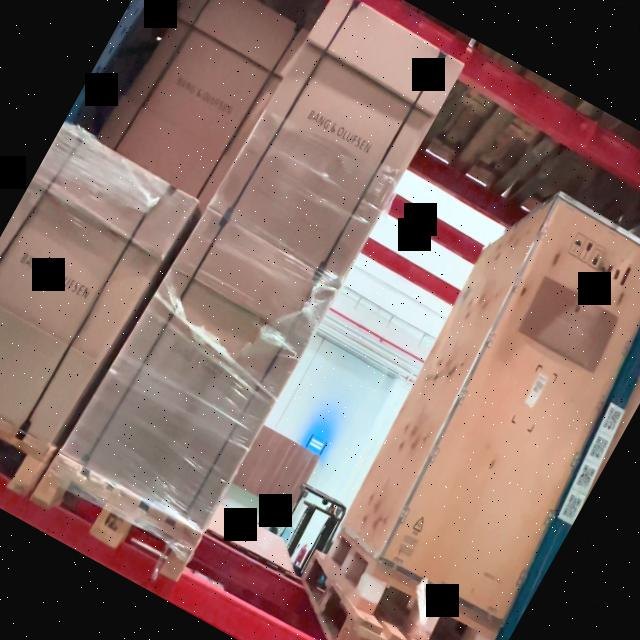box: (387, 205, 640, 600), (75, 219, 332, 522), (214, 0, 461, 280)
